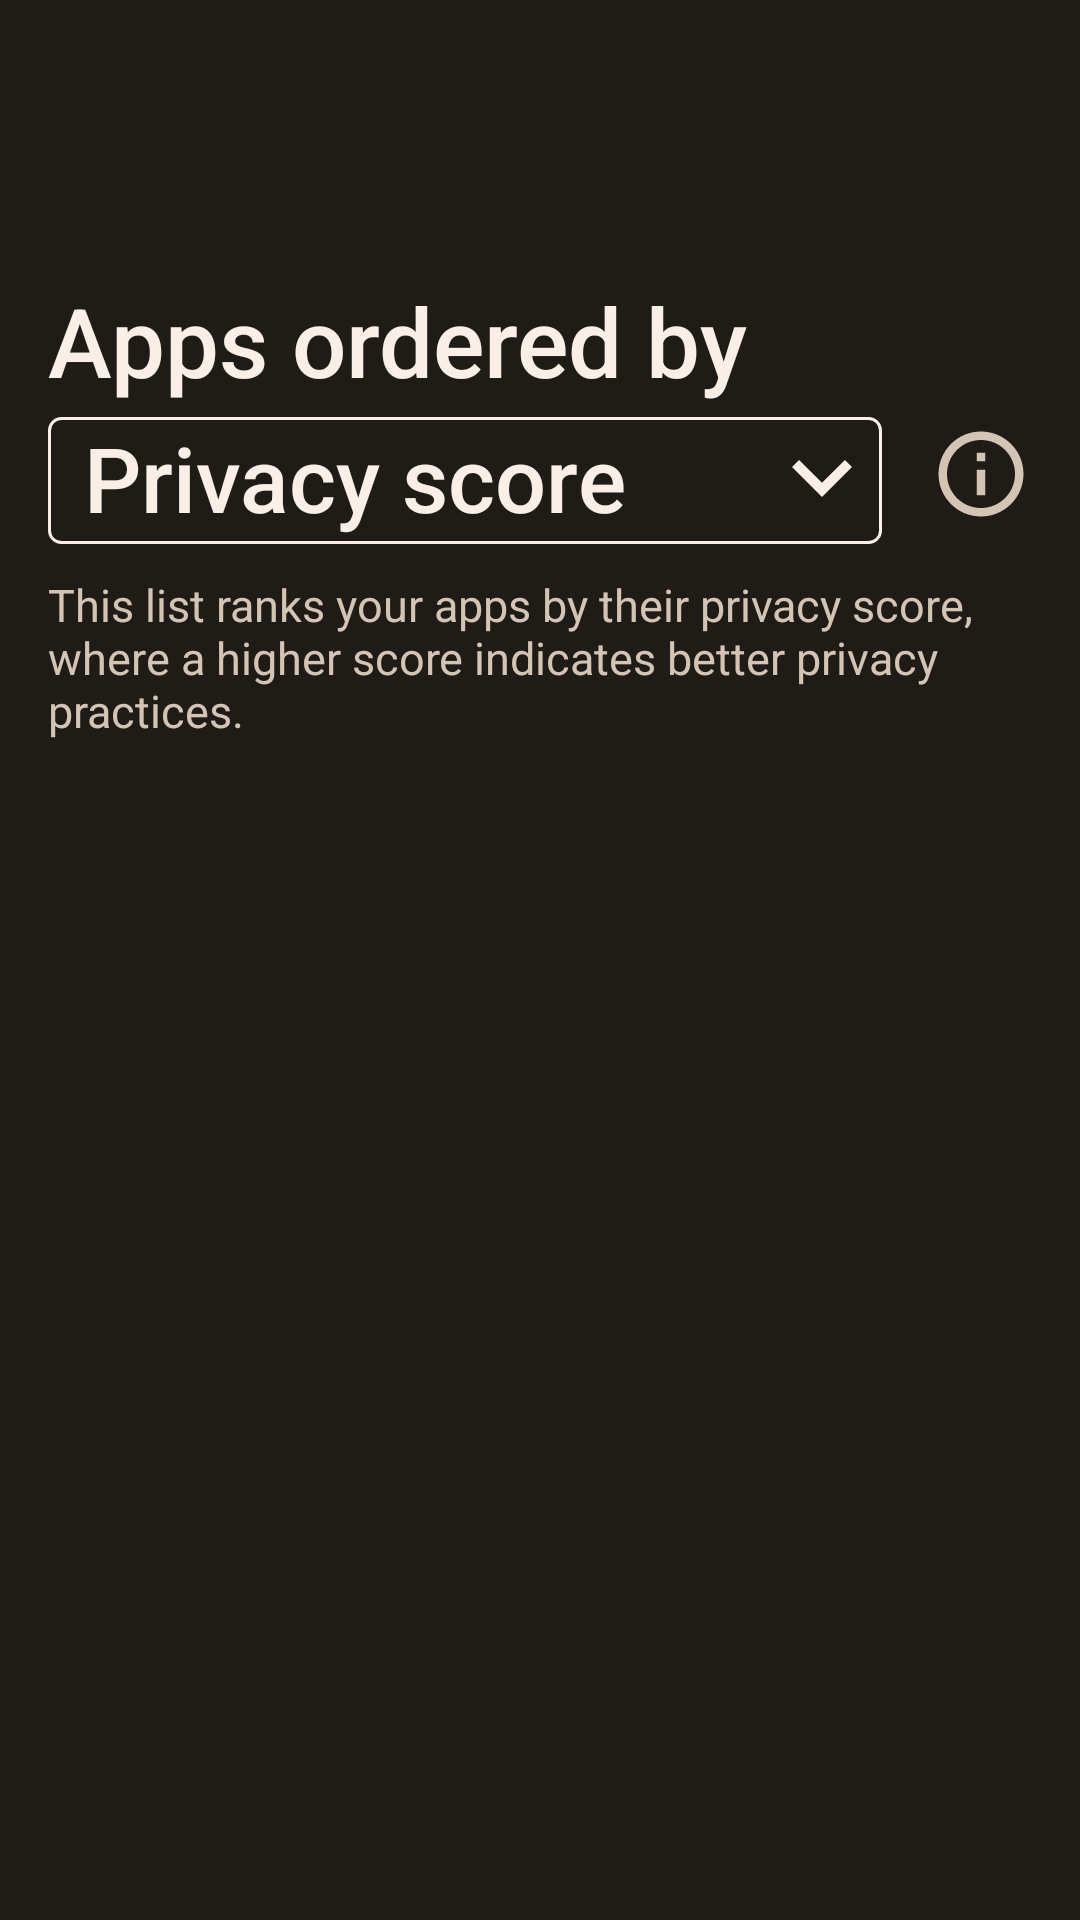

Icon click points for this 1080px x 1920px phone screenshot, format (x,y):
info: (981,474)
